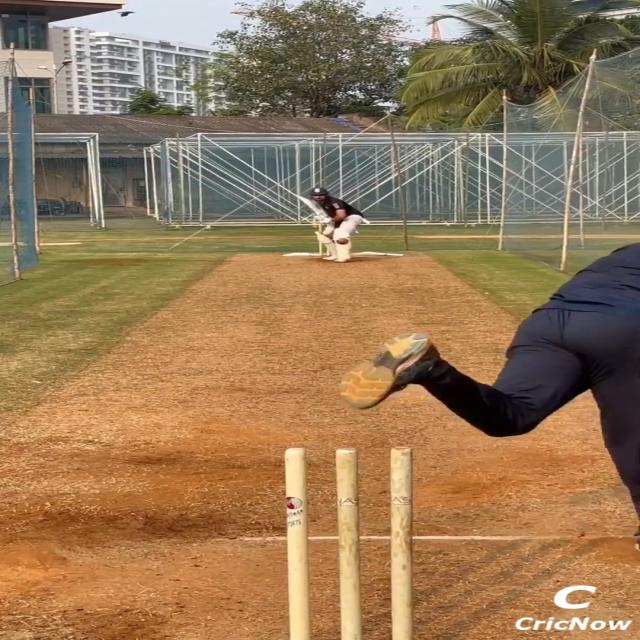ball: (336, 237, 350, 245)
stump: (280, 445, 419, 640)
